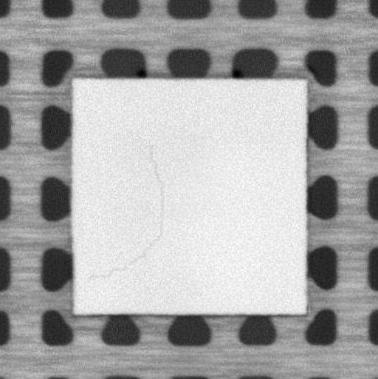DIE_CRACK: (91, 143, 164, 283)
